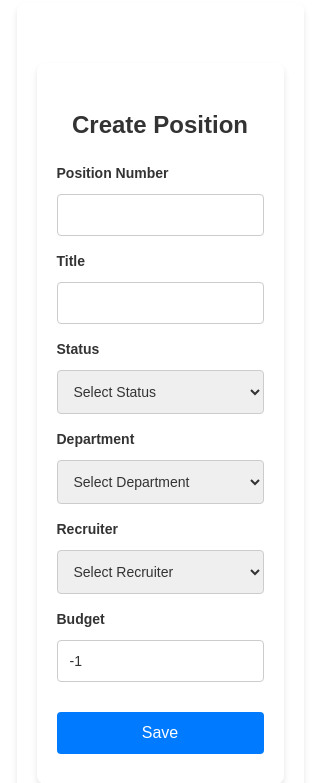
Test: PositionForm › shows validation errors when form is submitted with empty fields
Click the button "Save". click: click(160, 732)
box: x1=56 y1=712 x2=264 y2=754
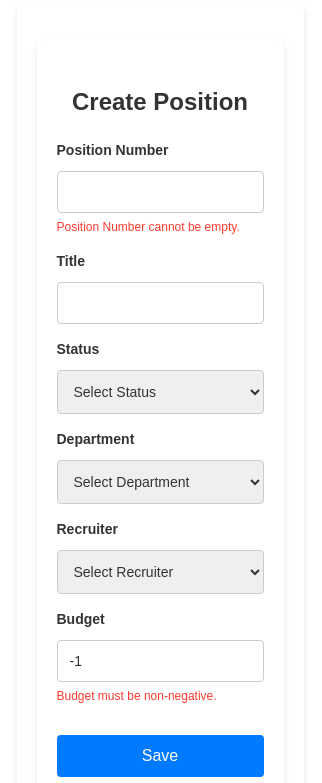
expect the text "Position Number cannot be empty." is shown: met, box x1=56 y1=218 x2=264 y2=236
expect the text "Budget must be non-negative." is shown: met, box x1=56 y1=688 x2=217 y2=702
